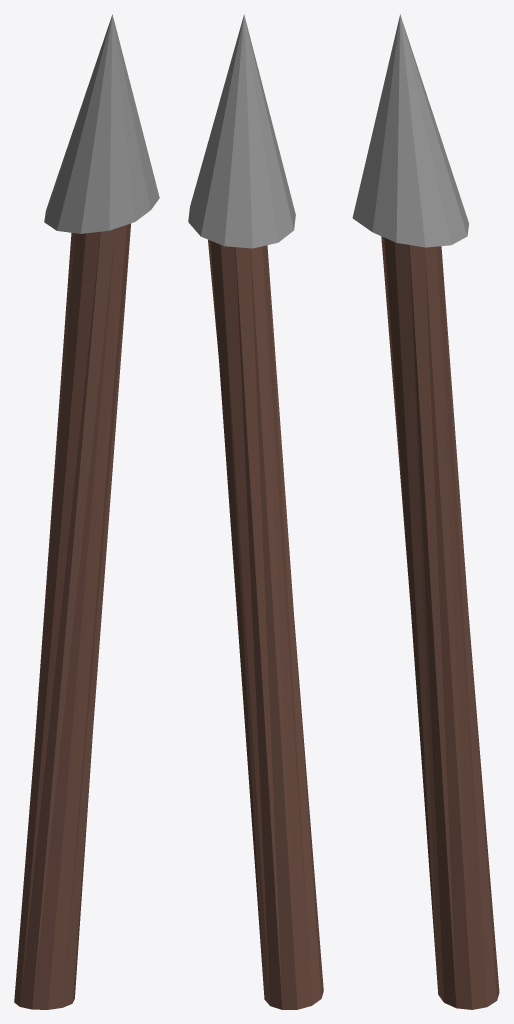
3 renders of one model, left to right at view 1: azimuth 90°, elevation 25°; view 2: azimuth 210°, elevation 25°; view 3: azimuth 270°, elevation 25°, orthographic. The views are drawn at different scales.
Visible parts, largest first — view 1: mesh_1489171281, mesh_378020480; view 2: mesh_1489171281, mesh_378020480; view 3: mesh_1489171281, mesh_378020480.
Part boxes in pixels (x1,y1,x2,y2): mesh_1489171281: (14,223,130,1009); mesh_378020480: (44,14,159,233); mesh_1489171281: (208,239,323,1009); mesh_378020480: (188,14,295,248); mesh_1489171281: (381,236,499,1009); mesh_378020480: (352,14,468,247).
Bounding box in the file's own units: 11.3 × 106 × 14.3.
